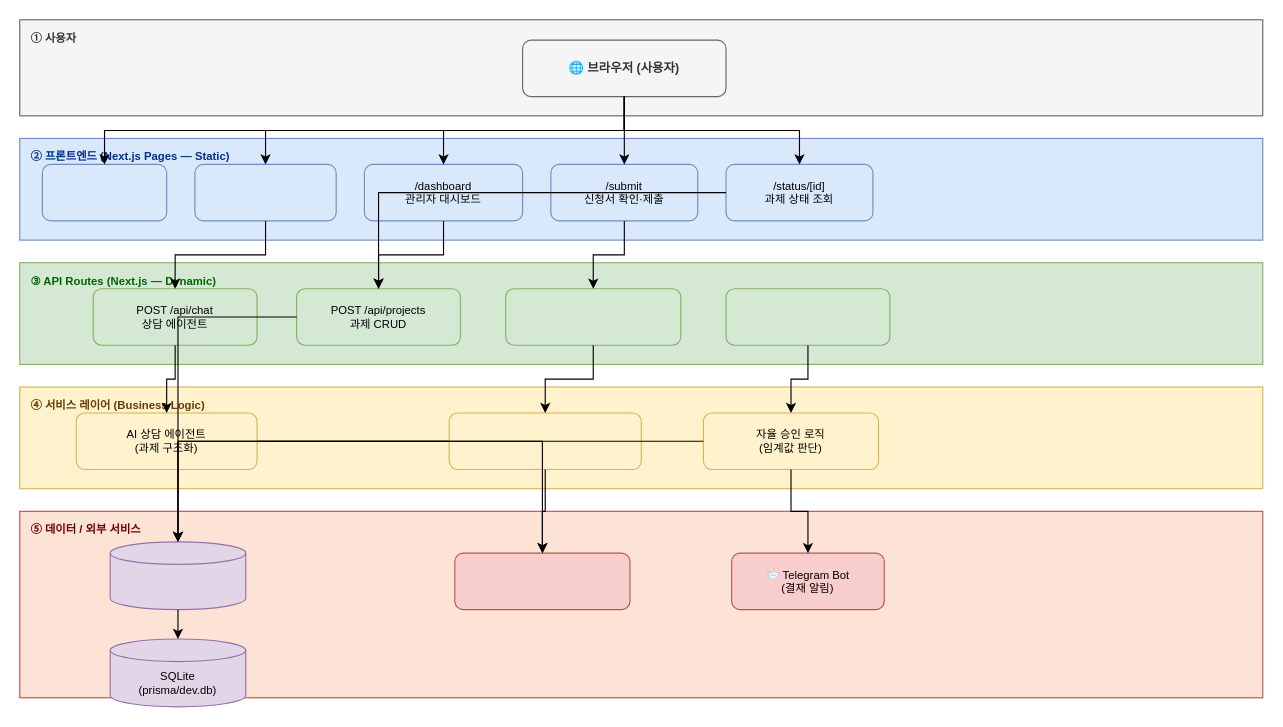
The diagram is 1283 pixels wide and 727 high, and some of its shapes have lost their labels. The shapes that lost their labels are listed below. From the top down, each one's box as (x1, y1, x2, y2) in pixels, then its label:
(41, 163, 167, 221): / 랜딩
(194, 163, 336, 221): /chat AI 상담 챗
(505, 288, 681, 345): POST /api/evaluate/[id] AI 평가 트리거
(725, 288, 890, 345): POST /api/approve/[id] 결재
(448, 412, 641, 470): 평가 에이전트 (6차원 스코어카드)
(109, 541, 246, 610): Prisma ORM
(454, 552, 630, 610): ☁️ Anthropic API (claude-sonnet)
